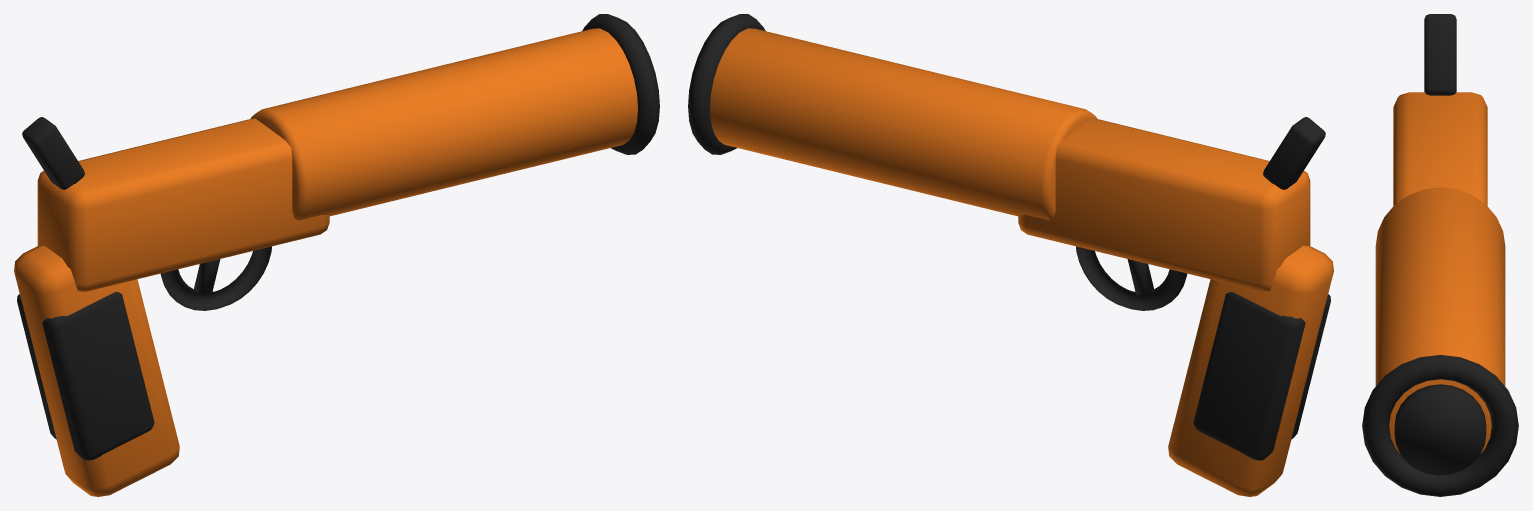
Rendered from flaregun.glb.
3 renders of one model, left to right at view 1: azimuth 30°, elevation 25°; view 2: azimuth 150°, elevation 25°; view 3: azimuth 270°, elevation 25°, orthographic. The views are drawn at different scales.
Visible parts, largest first — view 1: barrel.001, frame.001, grip.002, grip_pad.001, muzzle.001, guard.001, hammer.001; view 2: barrel.001, frame.001, grip.002, grip_pad.001, muzzle.001, guard.001, hammer.001; view 3: barrel.001, muzzle.001, frame.001, bore.001, hammer.001.
Part boxes in pixels (x1,y1,x2,y2): barrel.001: [250, 28, 637, 220]; frame.001: [37, 118, 329, 291]; grip.002: [14, 245, 179, 496]; grip_pad.001: [17, 292, 154, 460]; muzzle.001: [582, 14, 659, 154]; guard.001: [160, 246, 271, 310]; hammer.001: [22, 117, 84, 189]; barrel.001: [710, 28, 1097, 220]; frame.001: [1018, 118, 1310, 291]; grip.002: [1168, 245, 1333, 496]; grip_pad.001: [1193, 292, 1330, 460]; muzzle.001: [688, 14, 765, 154]; guard.001: [1076, 246, 1187, 310]; hammer.001: [1263, 117, 1325, 189]; barrel.001: [1375, 187, 1505, 453]; muzzle.001: [1362, 355, 1518, 496]; frame.001: [1393, 92, 1487, 205]; bore.001: [1394, 384, 1486, 475]; hammer.001: [1424, 14, 1456, 95].
Bounding box in the file's own units: 0.2802 × 0.1671 × 0.058.
